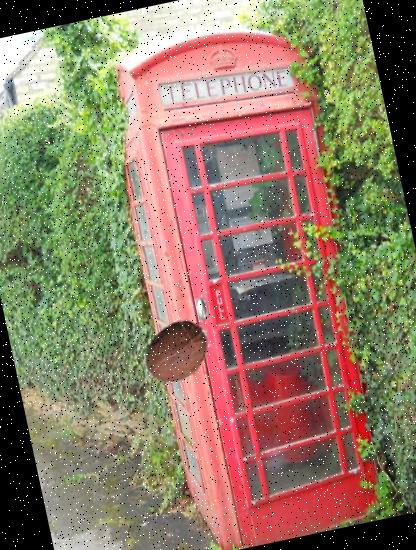Cocos: (134, 310, 216, 392)
